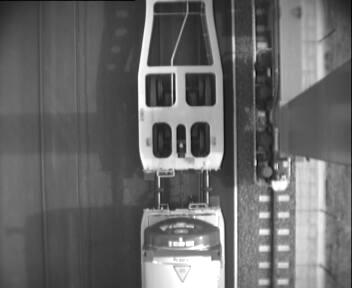Copy of Copy of Copy of wagon_scan: (149, 119, 213, 161)
